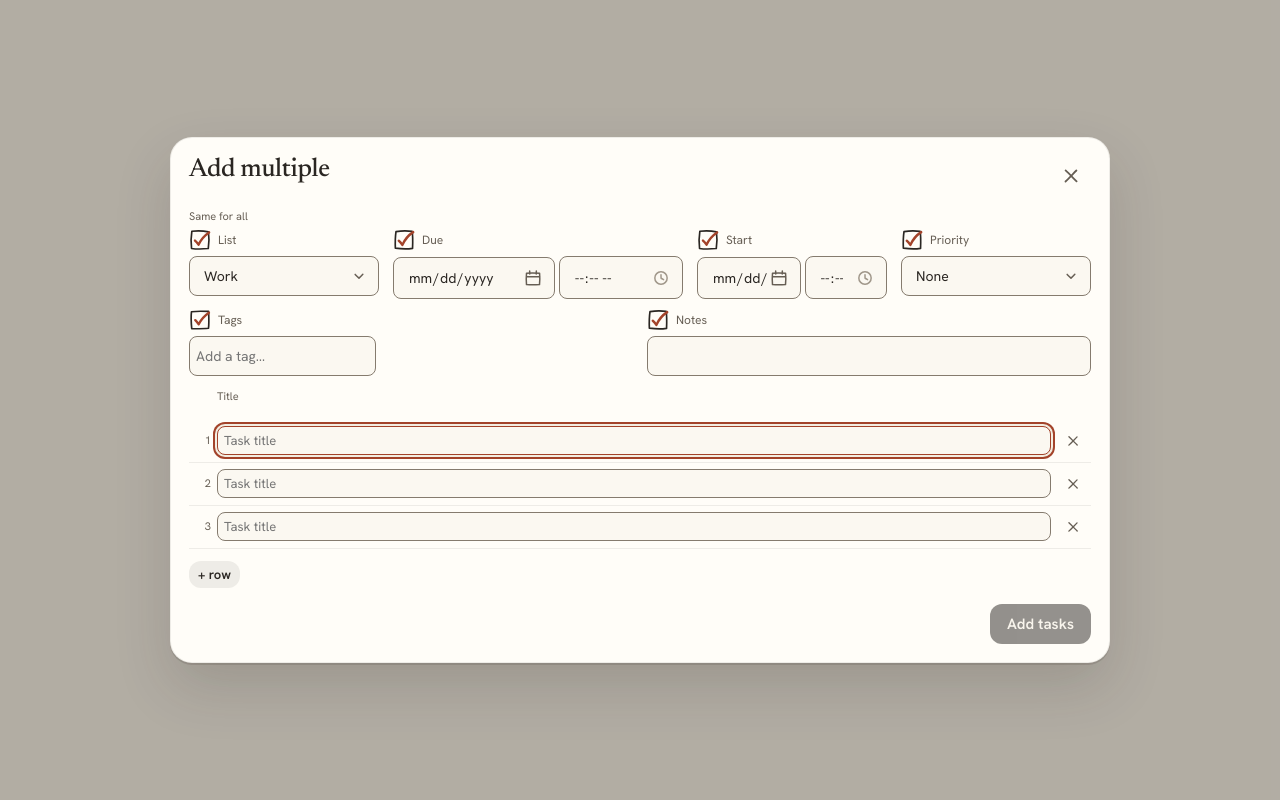
Test case: Back in the bulk composer › asks about a typed row
In the field with placeholder "Add a tag…": (282, 356) [196, 345, 369, 367], type "Milk"
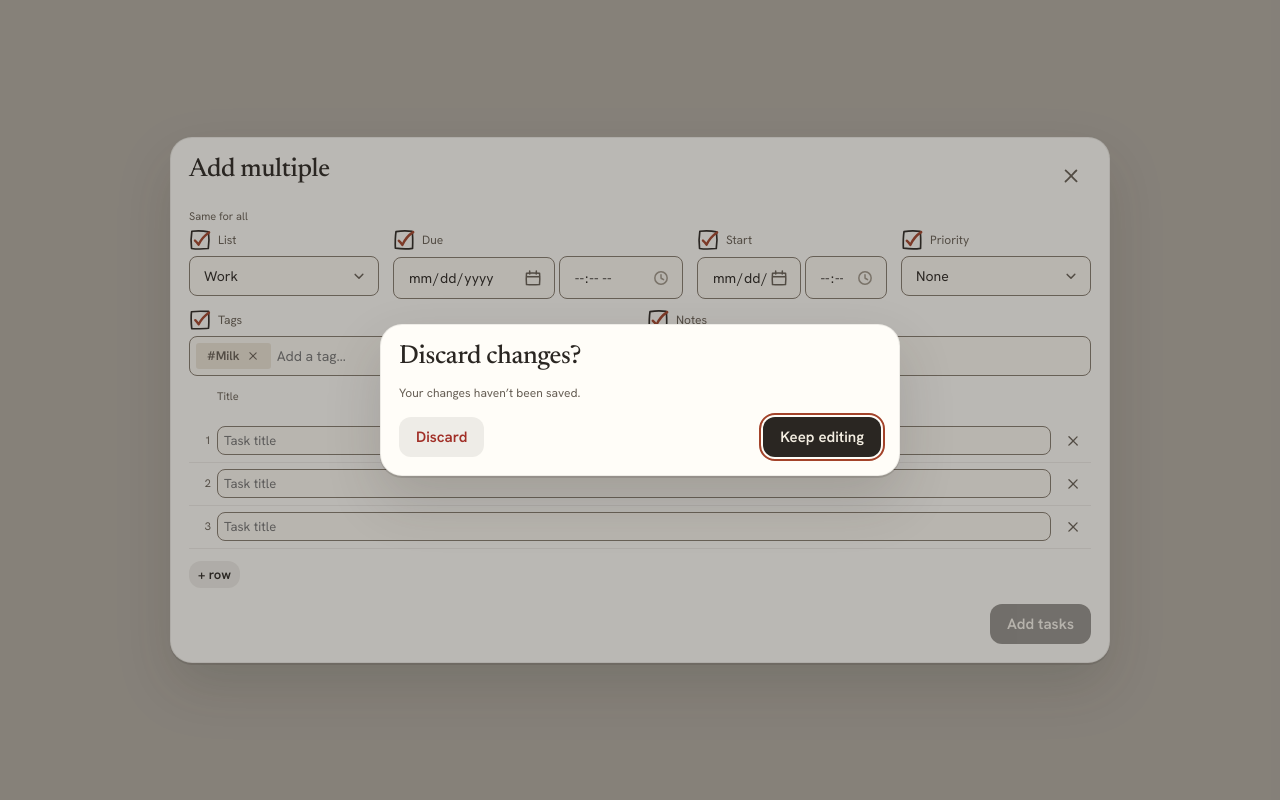
Check: the dialog "Discard changes?" is shown, box [380, 324, 900, 476]
